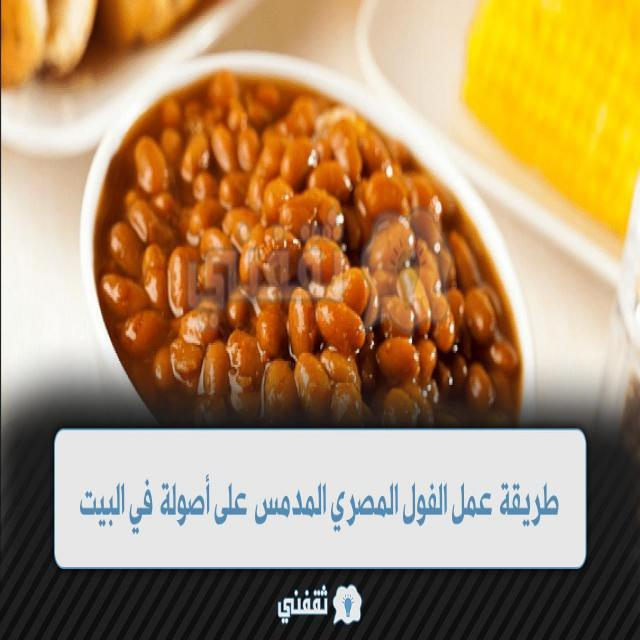fool: (91, 64, 522, 420)
